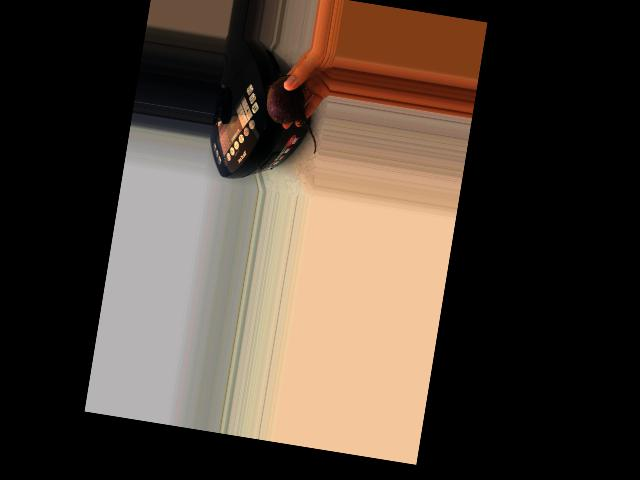beet: (257, 72, 327, 154)
